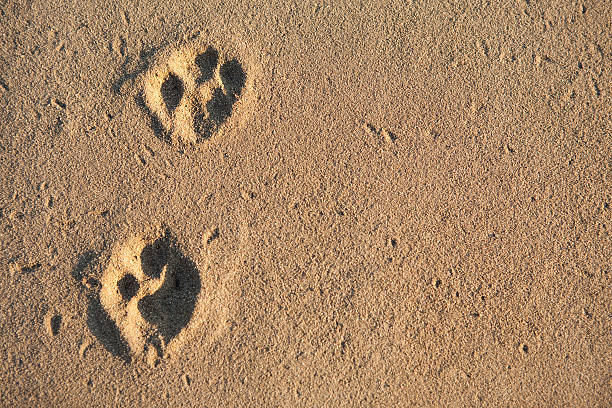animal_footprint: (89, 231, 201, 360), (142, 44, 246, 143)
